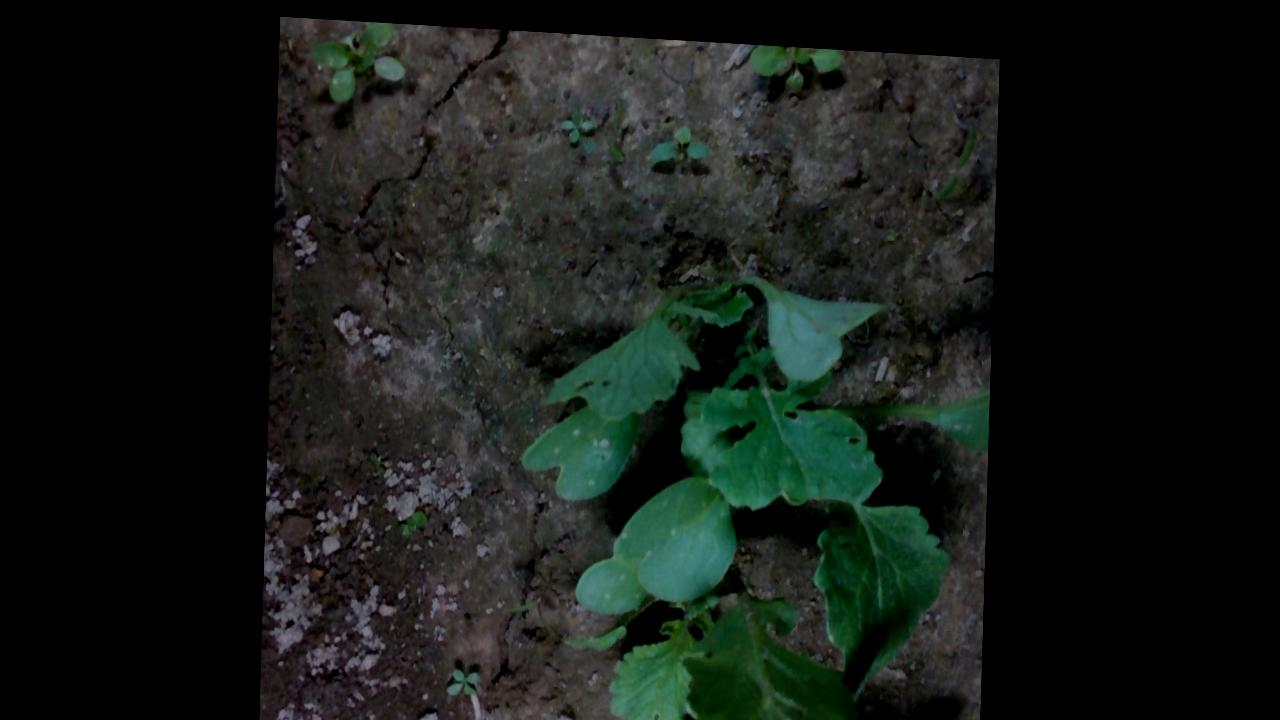weed: (640, 112, 706, 164), (445, 650, 486, 701), (553, 107, 595, 140)
